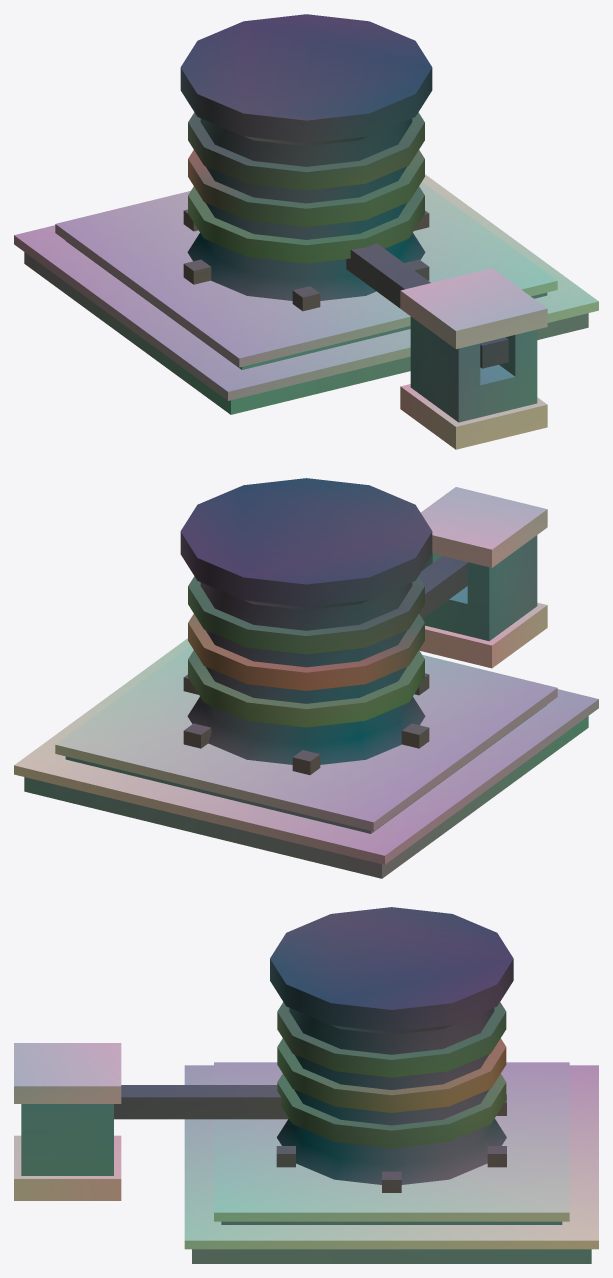
File: capstan_base.glb
3 views of the same model, one above another, from view 1: azimuth 30°, elevation 25°; view 2: azimuth 150°, elevation 25°; view 3: azimuth 270°, elevation 25° (orthographic). The views are drawn at different scales.
Parts seen in each view (by area): view 1: cap_trim, cap_drum, cap_guide, cap_plinth, cap_chain_2, cap_chain_1, cap_chain, cap_lead; view 2: cap_trim, cap_drum, cap_plinth, cap_guide, cap_chain_2, cap_chain, cap_chain_1, cap_lead; view 3: cap_trim, cap_drum, cap_plinth, cap_lead, cap_guide, cap_chain_2, cap_chain_1, cap_chain.
Boxes of the visible parts, x1,y1,x2,y2 form: cap_trim: (14, 174, 598, 449); cap_drum: (180, 14, 432, 300); cap_guide: (410, 316, 537, 422); cap_plinth: (24, 241, 588, 414); cap_chain_2: (188, 112, 424, 190); cap_chain_1: (188, 150, 424, 226); cap_chain: (188, 186, 424, 263); cap_lead: (183, 209, 508, 368); cap_trim: (14, 487, 598, 864); cap_drum: (180, 478, 432, 764); cap_plinth: (24, 705, 588, 878); cap_guide: (422, 535, 537, 641); cap_chain_2: (188, 576, 424, 654); cap_chain: (188, 650, 424, 727); cap_chain_1: (188, 614, 424, 690); cap_lead: (183, 556, 467, 774); cap_trim: (14, 1043, 598, 1249); cap_drum: (270, 907, 513, 1184); cap_plinth: (192, 1221, 591, 1263); cap_lead: (114, 1085, 506, 1192); cap_guide: (21, 1104, 113, 1175); cap_chain_2: (277, 1002, 506, 1077); cap_chain_1: (277, 1038, 506, 1112); cap_chain: (277, 1073, 506, 1148).
Size of the model in its own units: 1.7 by 1 by 2.4.
